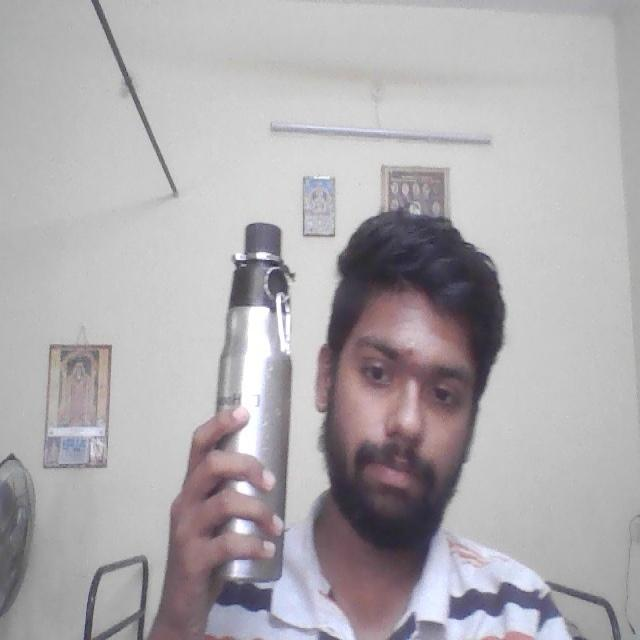Drinking: (203, 213, 300, 612)
